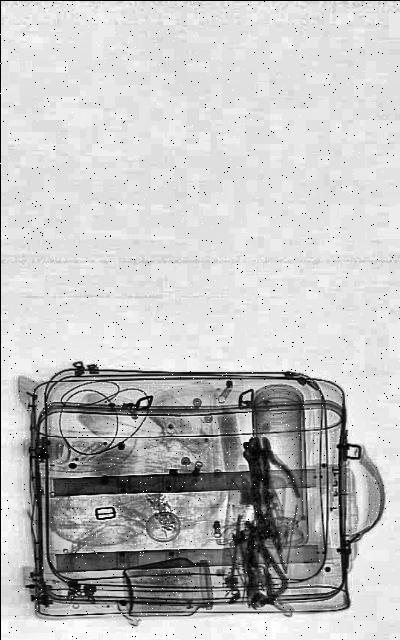Pliers: (244, 424, 304, 524)
